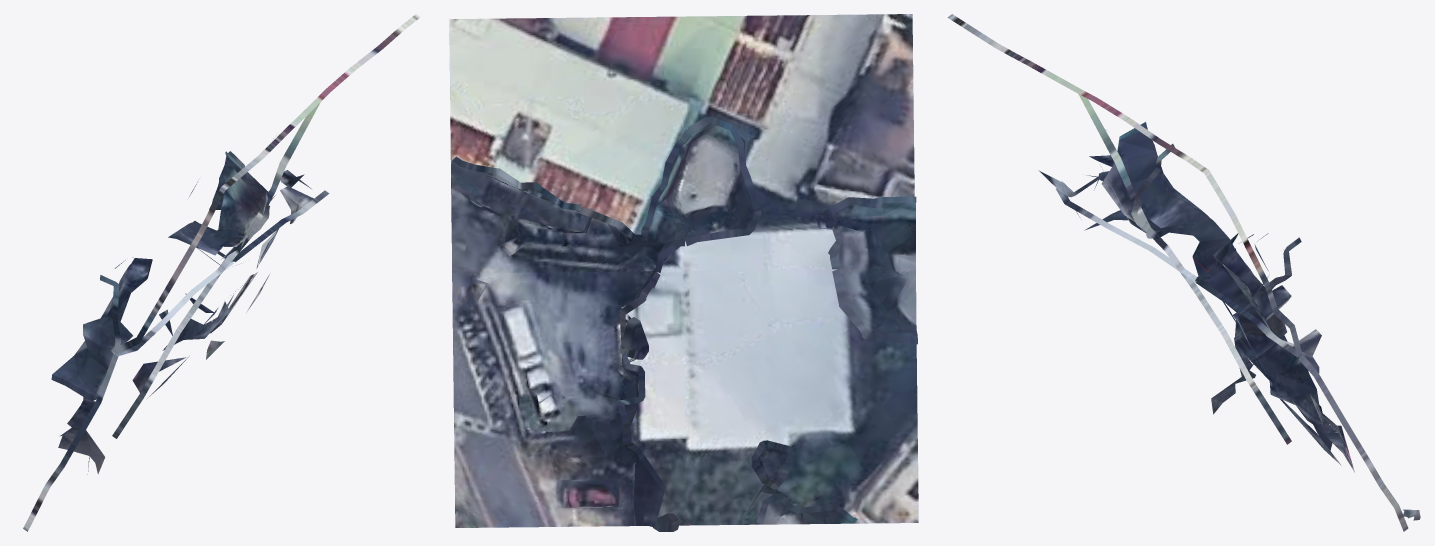
The picture shows the model from 3 angles, left to right: view 1: azimuth 30°, elevation 25°; view 2: azimuth 150°, elevation 25°; view 3: azimuth 270°, elevation 25°; orthographic projection. The views are drawn at different scales.
Bounding box in the file's own units: 38.4 × 34.62 × 35.38.
Materials: 1 (1 with a texture image).
